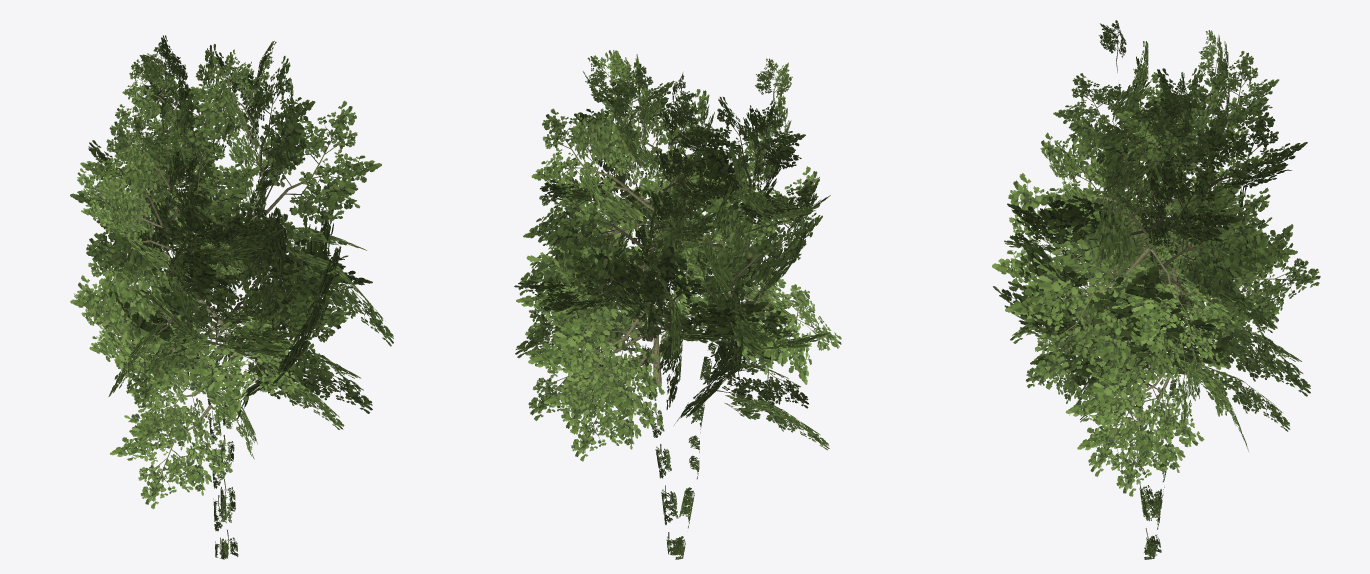
Rendered from Tree.fbx.
The picture shows the model from 3 angles, left to right: view 1: azimuth 30°, elevation 25°; view 2: azimuth 150°, elevation 25°; view 3: azimuth 270°, elevation 25°; orthographic projection.
Visible parts, largest first — view 1: Tree, Bush; view 2: Tree, Bush; view 3: Tree, Bush.
Boxes of the visible parts, x1=… form: Tree: x1=70, y1=35, x2=393, y2=559; Bush: x1=180, y1=224, x2=241, y2=283; Tree: x1=514, y1=50, x2=841, y2=559; Bush: x1=646, y1=225, x2=728, y2=279; Tree: x1=992, y1=20, x2=1320, y2=559; Bush: x1=1134, y1=216, x2=1191, y2=273.
Bounding box in the file's own units: 767 × 1010 × 771.
